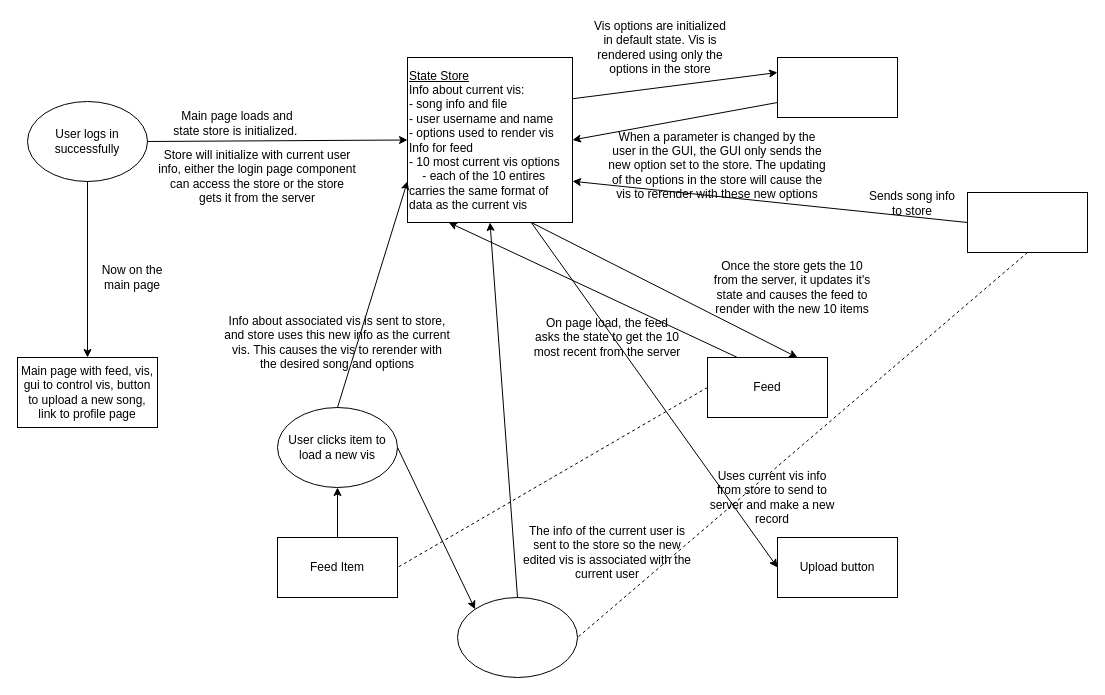
Image size: 1105x695. Some labels were removed from this diagram. The shapes that lost their labels are listed below. From the top down, each one's centre as x and y in pixels, then its label:
the point at 837,87: Vis + control GUI
the point at 1027,222: Upload new song
the point at 517,637: User changes params of a vis they loaded from another user
